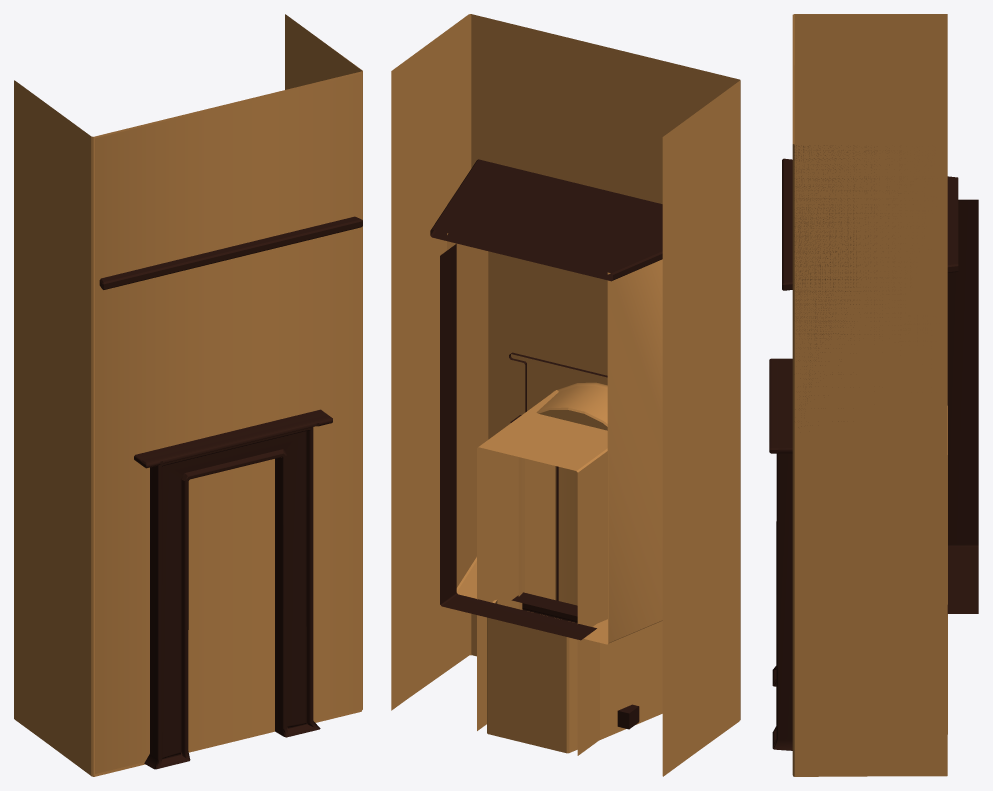
The model's file is KasteelCulemborg_ModularSet_2.FBX.
3 renders of one model, left to right at view 1: azimuth 30°, elevation 25°; view 2: azimuth 150°, elevation 25°; view 3: azimuth 270°, elevation 25°, orthographic.
Parts seen in each view (by area): view 1: WallBlockBase, WallBlock_Couch, Deurpost, WindowPlint_2, WallBlock_Doorway; view 2: WallBlock_Doorway, WallBlock_Couch, WindowPlint_2, WallBlock_Window, WallBlockBase, WindowPlint_1, Deurpost; view 3: WallBlock_Couch, WallBlock_Doorway, WindowPlint_2, Deurpost, WallBlock_Window, WallBlockBase.
Boxes of the visible parts, x1=… form: WallBlockBase: x1=14, y1=32, x2=362, y2=775; WallBlock_Couch: x1=14, y1=70, x2=362, y2=775; Deurpost: x1=134, y1=409, x2=332, y2=769; WindowPlint_2: x1=99, y1=216, x2=362, y2=289; WallBlock_Doorway: x1=15, y1=14, x2=360, y2=135; WallBlock_Doorway: x1=391, y1=14, x2=739, y2=775; WallBlock_Couch: x1=447, y1=14, x2=740, y2=776; WindowPlint_2: x1=430, y1=159, x2=662, y2=640; WallBlock_Window: x1=391, y1=14, x2=739, y2=743; WallBlockBase: x1=416, y1=14, x2=740, y2=719; WindowPlint_1: x1=510, y1=415, x2=577, y2=623; Deurpost: x1=509, y1=352, x2=607, y2=600; WallBlock_Couch: x1=793, y1=14, x2=947, y2=776; WallBlock_Doorway: x1=793, y1=14, x2=947, y2=734; WindowPlint_2: x1=782, y1=158, x2=978, y2=613; Deurpost: x1=769, y1=358, x2=792, y2=750; WallBlock_Window: x1=793, y1=14, x2=947, y2=776; WallBlockBase: x1=792, y1=14, x2=946, y2=775.
Size of the model in its own units: 1.78 by 4.02 by 1.21.
